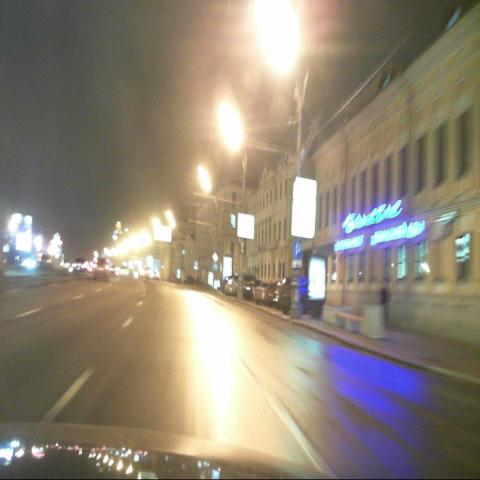6_4: (293, 242, 303, 259)
